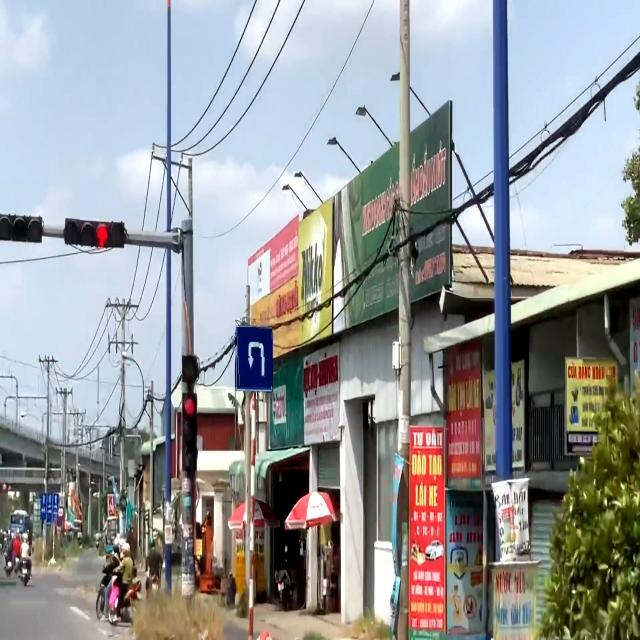bien_chi_dan: (235, 328, 273, 388)
